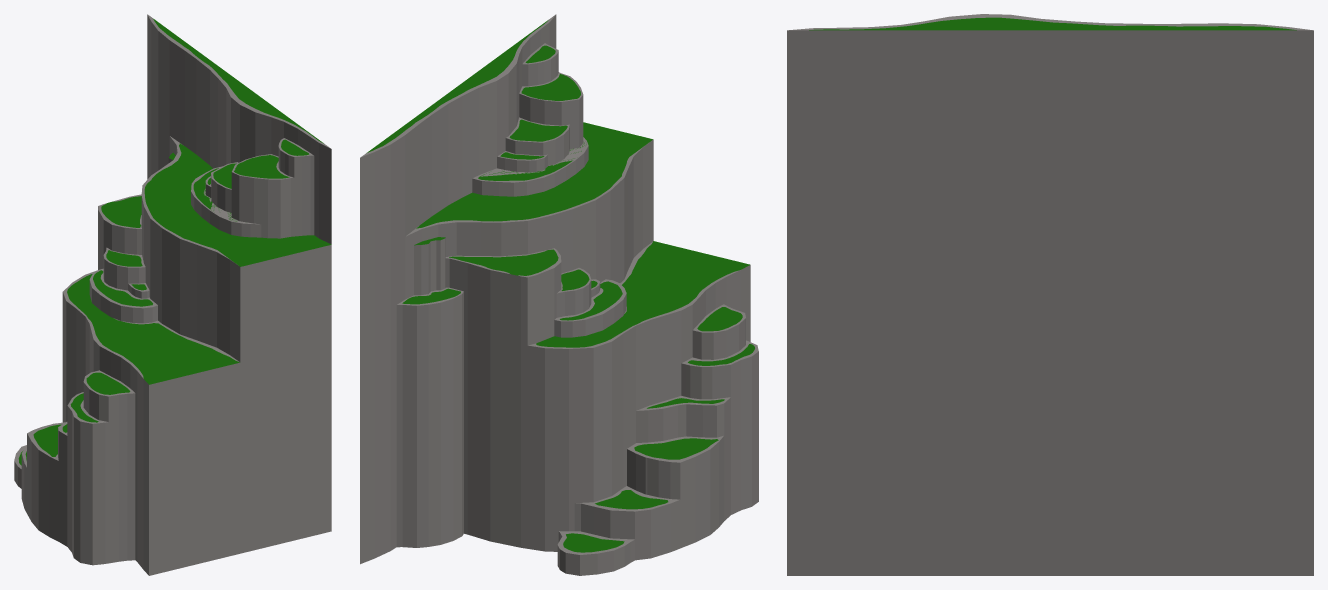
File: MountainToStairCorner.fbx
The picture shows the model from 3 angles, left to right: view 1: azimuth 30°, elevation 25°; view 2: azimuth 150°, elevation 25°; view 3: azimuth 270°, elevation 25°; orthographic projection. The views are drawn at different scales.
Parts seen in each view (by area): view 1: Plane.014; view 2: Plane.014; view 3: Plane.014.
Boxes of the visible parts, <box> form: Plane.014: <box>14,14,331,575</box>; Plane.014: <box>360,14,758,575</box>; Plane.014: <box>787,14,1313,575</box>.
Size of the model in its own units: 60.49 by 100 by 87.53.
